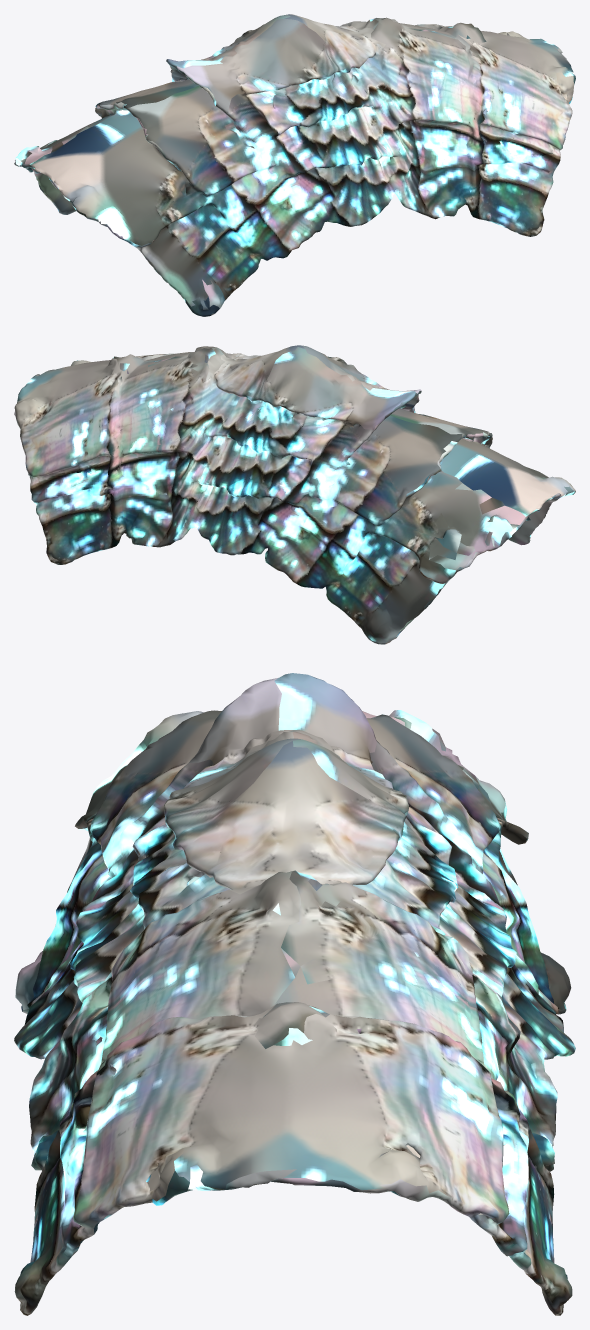
File: maris_shell_pauldron.glb
3 renders of one model, top to bottom at view 1: azimuth 30°, elevation 25°; view 2: azimuth 150°, elevation 25°; view 3: azimuth 270°, elevation 25°, orthographic. The views are drawn at different scales.
Visible parts, largest first — view 1: geometry_0; view 2: geometry_0; view 3: geometry_0.
Boxes of the visible parts, x1,y1,x2,y2 form: geometry_0: (14,14,575,316); geometry_0: (14,345,575,644); geometry_0: (14,673,575,1315).
Bounding box in the file's own units: 0.8682 × 0.3402 × 0.4262.
1 material, 1 textured.
